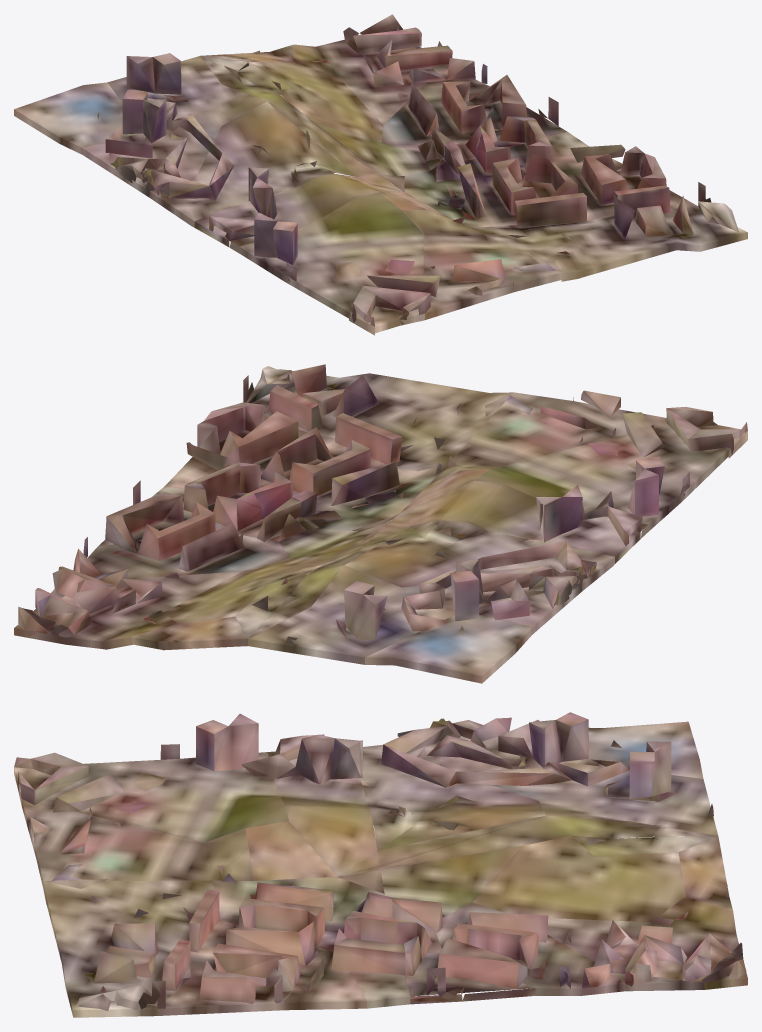
3 views of the same model, one above another, from view 1: azimuth 30°, elevation 25°; view 2: azimuth 150°, elevation 25°; view 3: azimuth 270°, elevation 25° (orthographic). The views are drawn at different scales.
Parts seen in each view (by area): view 1: Mesh_0; view 2: Mesh_0; view 3: Mesh_0.
Boxes of the visible parts, left/top/right/bottom form: Mesh_0: left=14, top=14, right=747, bottom=335; Mesh_0: left=14, top=364, right=747, bottom=683; Mesh_0: left=14, top=712, right=747, bottom=1017.
Size of the model in its own units: 533 by 89.65 by 659.
Materials: 1 (1 with a texture image).
